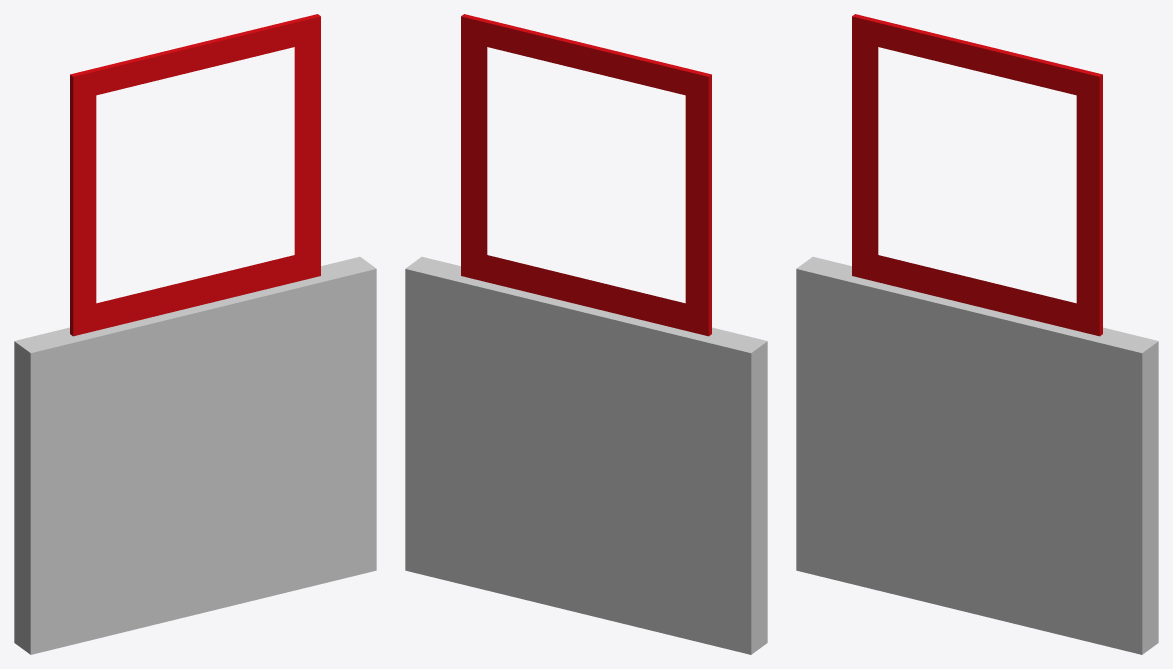
Rendered from my_frame1.dae.
3 views of the same model, side by side, from view 1: azimuth 30°, elevation 25°; view 2: azimuth 150°, elevation 25°; view 3: azimuth 330°, elevation 25° (orthographic).
Parts seen in each view (by area): view 1: 立方体, 立方体.001; view 2: 立方体, 立方体.001; view 3: 立方体, 立方体.001.
Boxes of the visible parts, box(x1,y1,x2,y2) form: 立方体: box(14, 256, 376, 654); 立方体.001: box(70, 14, 320, 336); 立方体: box(405, 256, 767, 654); 立方体.001: box(461, 14, 711, 336); 立方体: box(796, 256, 1158, 654); 立方体.001: box(852, 14, 1102, 336).
Size of the model in its own units: 12 by 1 by 18.6.
